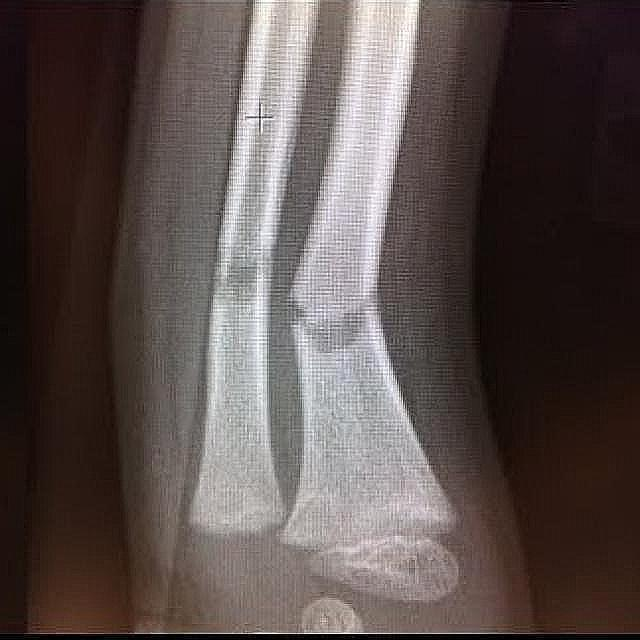bone: (280, 220, 418, 426), (199, 233, 276, 329)
